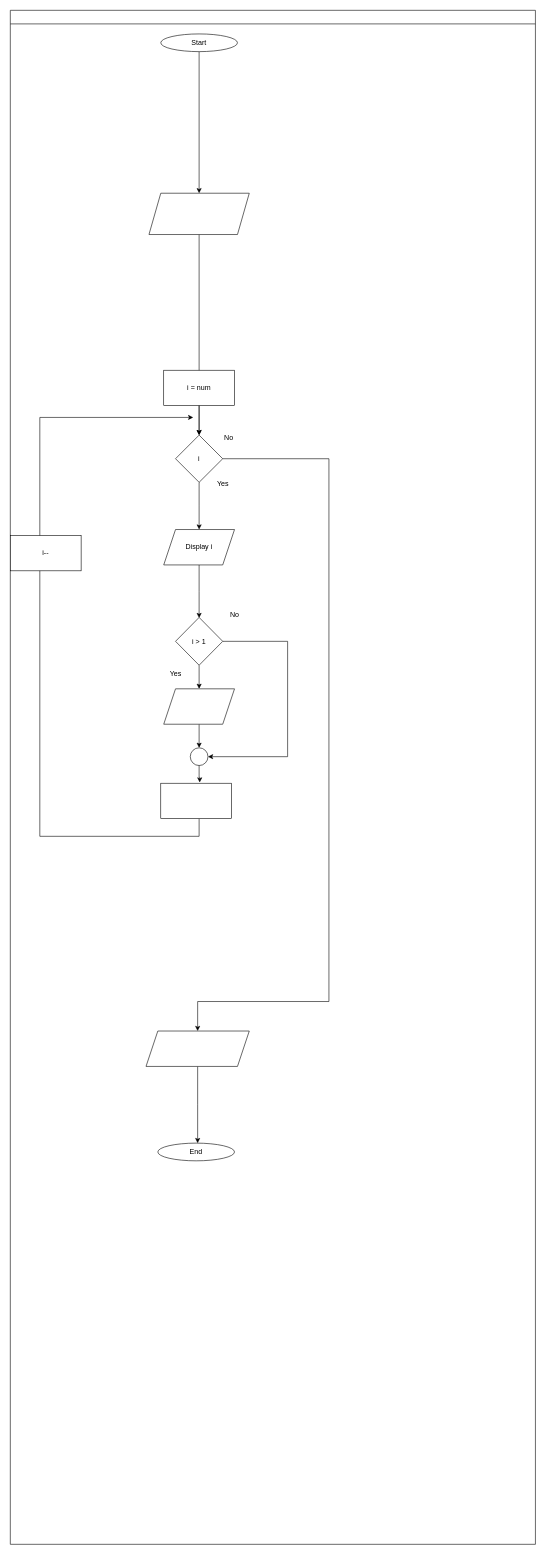
Image size: 546x1555. Some labels were removed from this diagram. Each missing label, with the centre of its shape:
Display " x ": pixel 199 706
Display sum and num: pixel 197 1048
Read number: pixel 198 214
sum *= i: pixel 196 801
